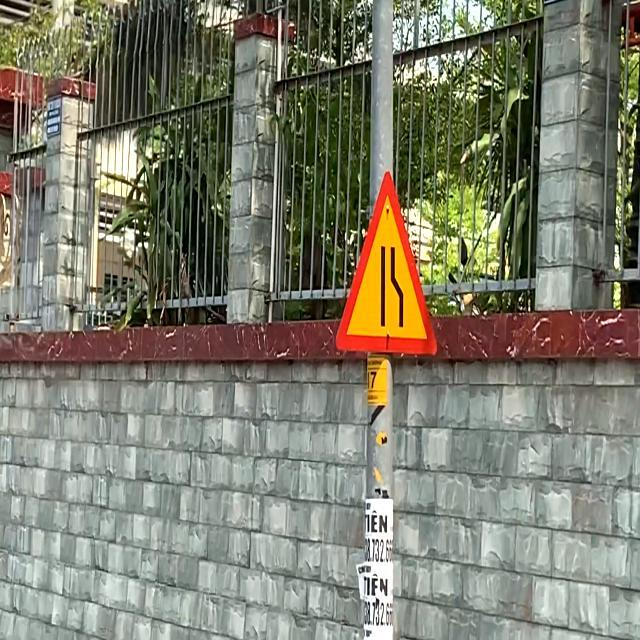W-203c: (334, 172, 438, 358)
